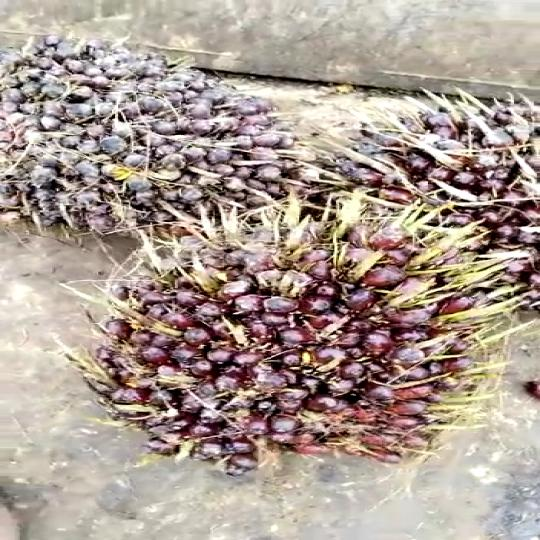kurang masak: (75, 180, 503, 478), (0, 20, 234, 255), (295, 71, 540, 286)
